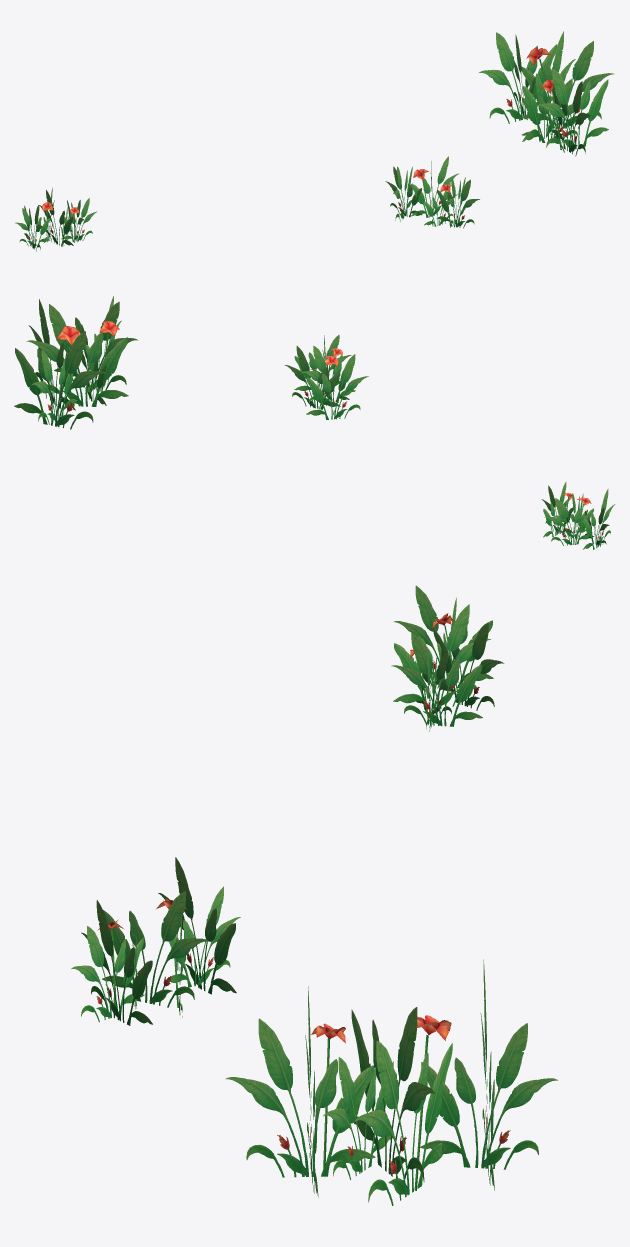
Rendered from area_10_3.fbx.
3 views of the same model, one above another, from view 1: azimuth 30°, elevation 25°; view 2: azimuth 150°, elevation 25°; view 3: azimuth 270°, elevation 25° (orthographic). The views are drawn at different scales.
Visible parts, largest first — view 1: area_10_3; view 2: area_10_3; view 3: area_10_3.
Part boxes in pixels (bbox=[...]): area_10_3: bbox=[15, 31, 614, 251]; area_10_3: bbox=[14, 296, 615, 549]; area_10_3: bbox=[71, 585, 557, 1205].
Size of the model in its own units: 10.68 by 1.71 by 3.95.
